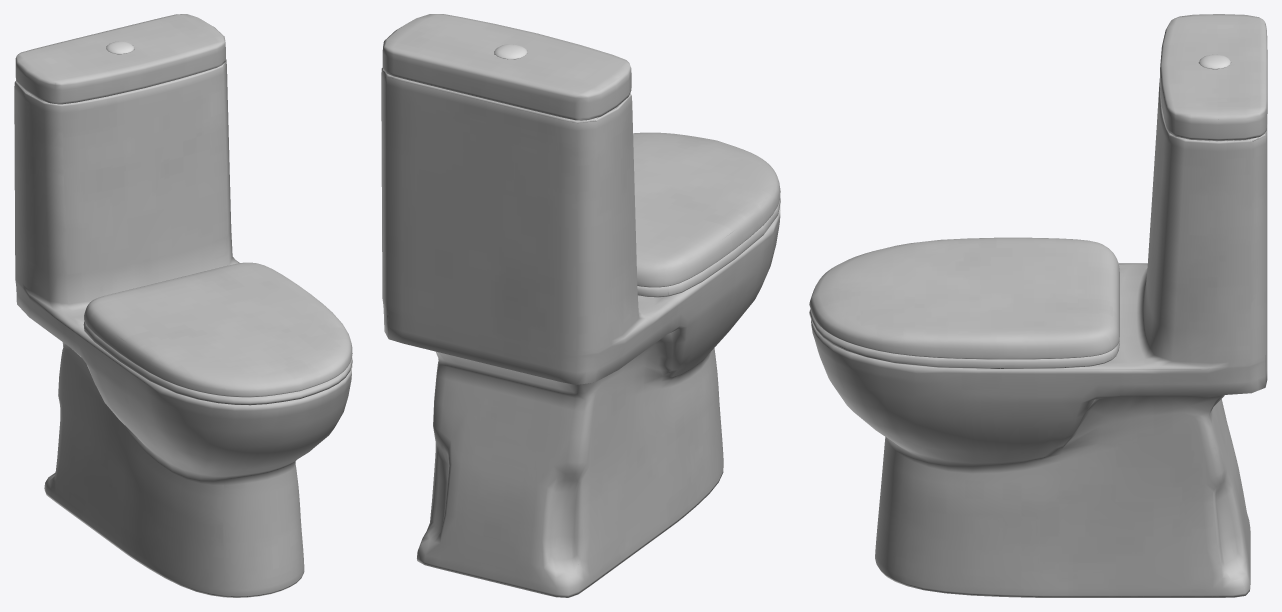
File: toilet.glb
The picture shows the model from 3 angles, left to right: view 1: azimuth 30°, elevation 25°; view 2: azimuth 150°, elevation 25°; view 3: azimuth 270°, elevation 25°; orthographic projection. The views are drawn at different scales.
Parts seen in each view (by area): view 1: toilet2.001, toilet2; view 2: toilet2.001, toilet2; view 3: toilet2.001, toilet2.
Boxes of the visible parts, box(x1,y1,x2,y2) form: toilet2.001: box(14, 59, 352, 597); toilet2: box(15, 14, 352, 405); toilet2.001: box(381, 68, 780, 597); toilet2: box(382, 14, 780, 297); toilet2.001: box(811, 78, 1267, 597); toilet2: box(809, 14, 1267, 368).
Bounding box in the file's own units: 0.3444 × 0.7475 × 0.6189.
3 materials, 2 textured.
